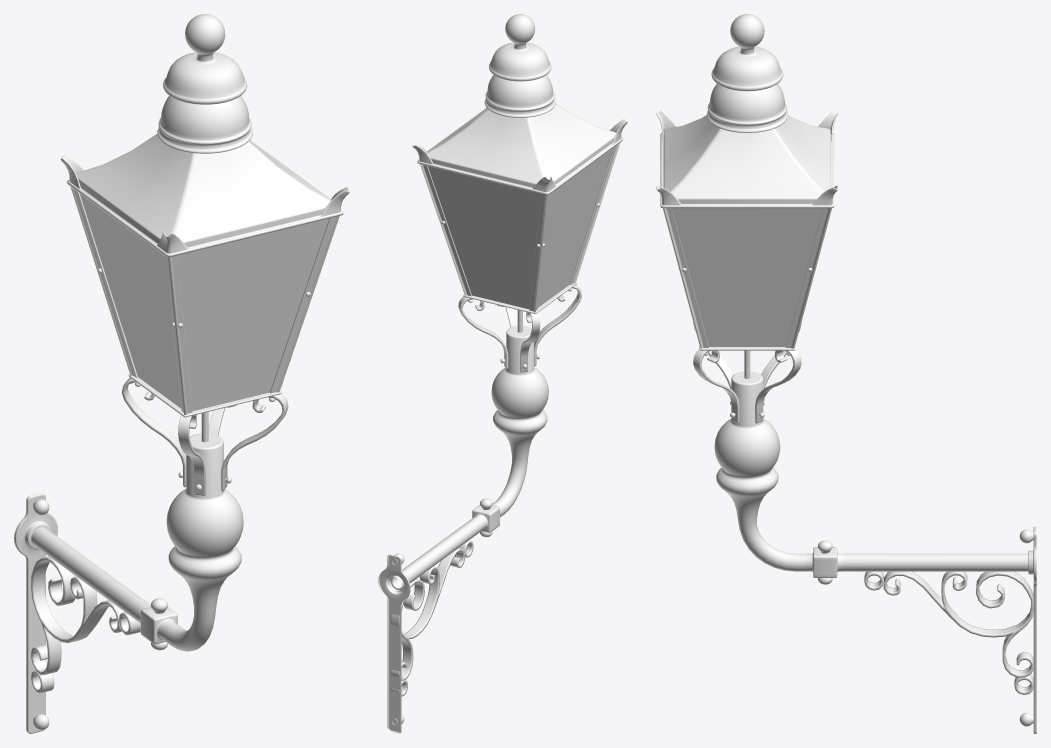
The model's file is lamp.glb.
The picture shows the model from 3 angles, left to right: view 1: azimuth 30°, elevation 25°; view 2: azimuth 150°, elevation 25°; view 3: azimuth 270°, elevation 25°; orthographic projection. The views are drawn at different scales.
Visible parts, largest first — view 1: street_lamp_02; view 2: street_lamp_02; view 3: street_lamp_02.
Boxes of the visible parts, left/top/right/bottom form: street_lamp_02: left=14, top=14, right=349, bottom=733; street_lamp_02: left=378, top=14, right=627, bottom=733; street_lamp_02: left=656, top=14, right=1036, bottom=733.
Size of the model in its own units: 0.3865 by 1.68 by 0.8068.
3 materials, 1 textured.
